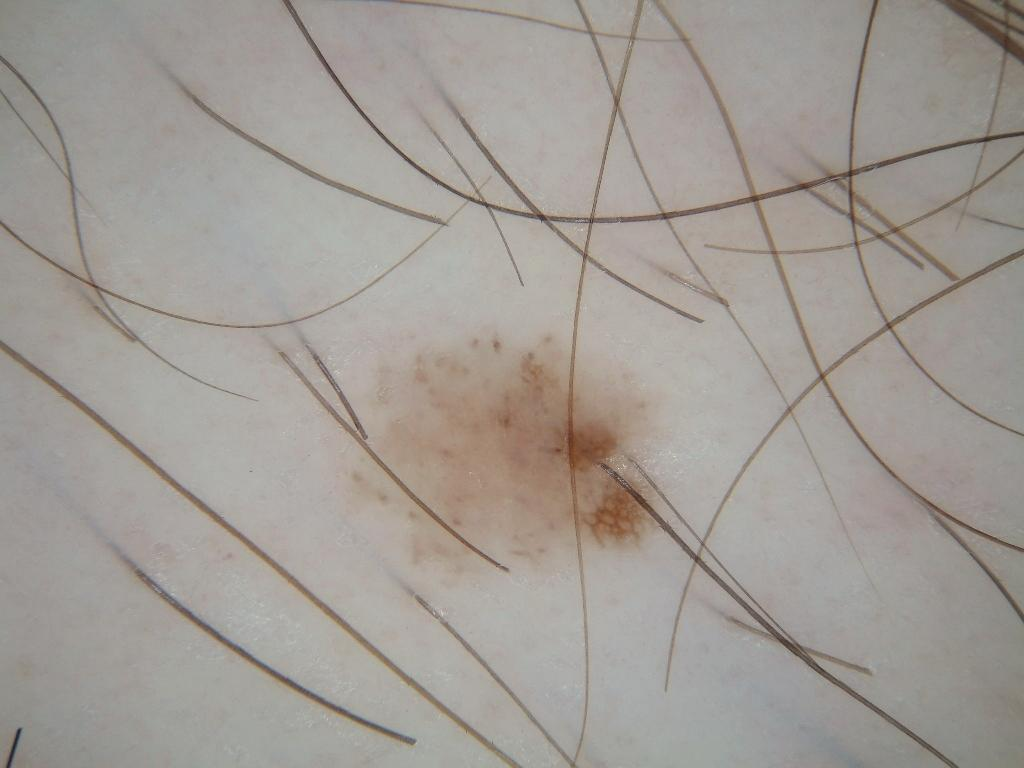Detected Lesion: (349, 326, 668, 577)
